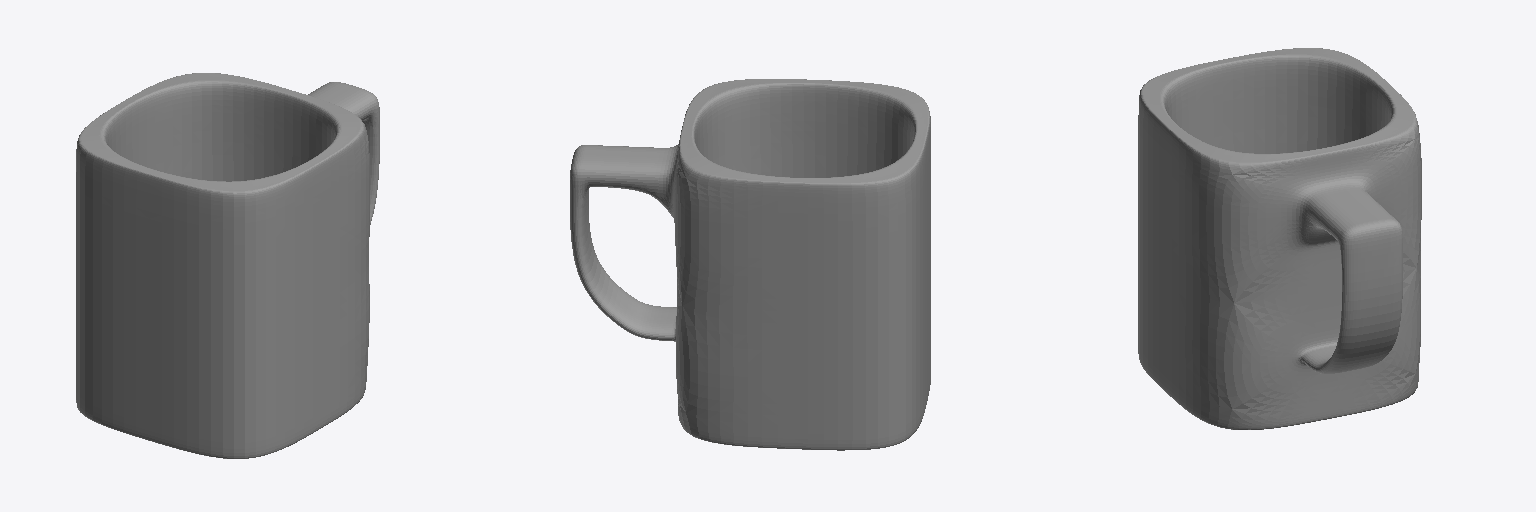
The model's file is Cup_2.obj.
3 views of the same model, side by side, from view 1: azimuth 30°, elevation 25°; view 2: azimuth 150°, elevation 25°; view 3: azimuth 270°, elevation 25° (orthographic).
Parts seen in each view (by area): view 1: Cup_2_Cube; view 2: Cup_2_Cube; view 3: Cup_2_Cube.
Part boxes in pixels (x1,y1,x2,y2): Cup_2_Cube: (76, 73, 379, 458); Cup_2_Cube: (570, 79, 930, 450); Cup_2_Cube: (1138, 48, 1421, 429).
Size of the model in its own units: 0.1108 by 0.0903 by 0.0864.